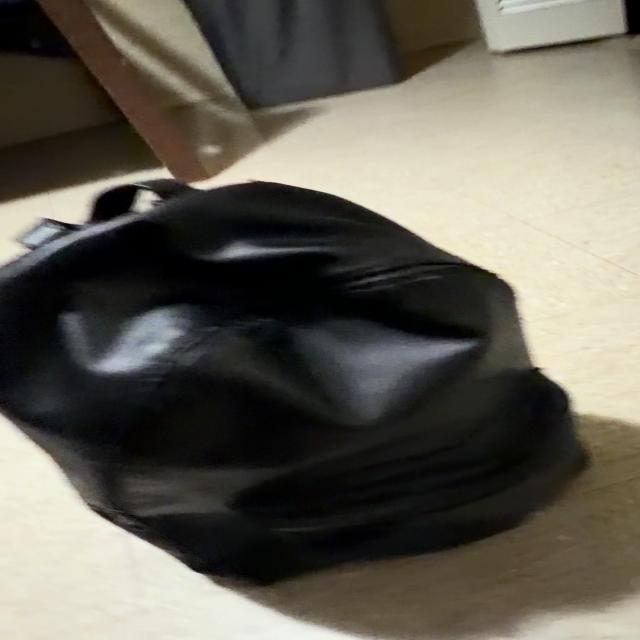backpack: (0, 180, 585, 583)
